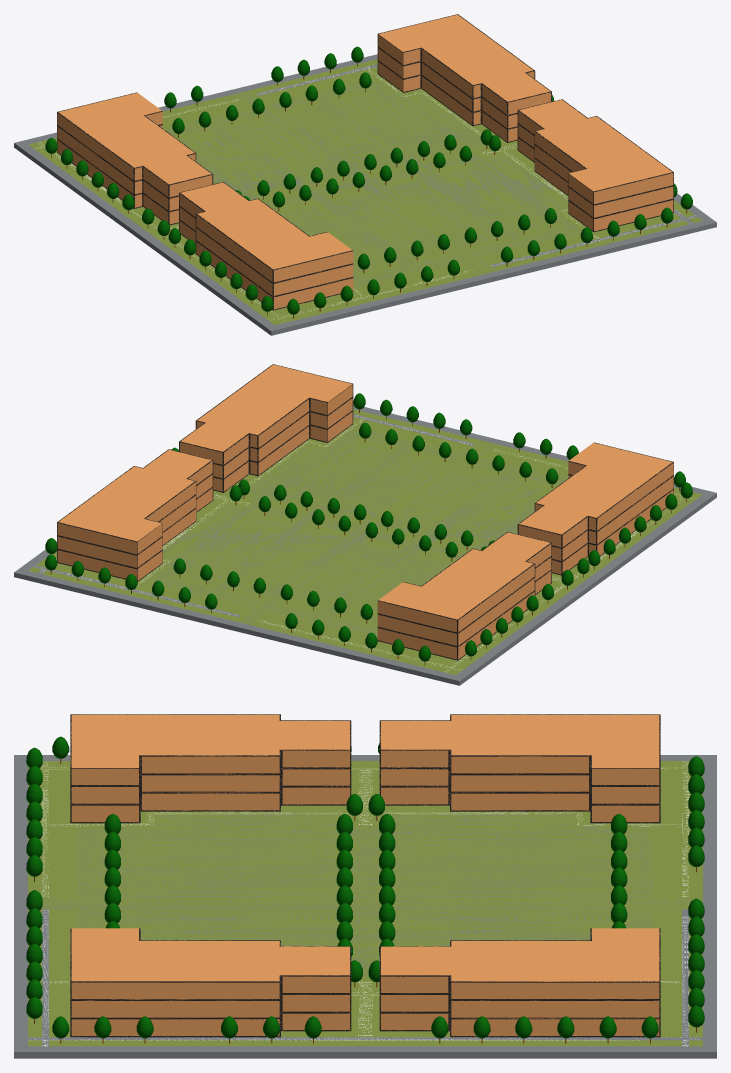
The model's file is 450_apartment_A.dae.
The picture shows the model from 3 angles, top to bottom: view 1: azimuth 30°, elevation 25°; view 2: azimuth 150°, elevation 25°; view 3: azimuth 270°, elevation 25°; orthographic projection. The views are drawn at different scales.
Visible parts, largest first — view 1: group_1 (×14), group_5 (×14), group_4 (×7), group_3 (×6); view 2: group_1 (×15), group_5 (×14), group_4 (×7), group_3 (×6); view 3: group_1 (×14), group_5 (×18), group_4 (×14), group_3 (×14).
Part boxes in pixels (x1=…): group_1 (×14): x1=14, y1=54, x2=716, y2=335; group_5 (×14): x1=57, y1=14, x2=673, y2=283; group_4 (×7): x1=57, y1=47, x2=673, y2=296; group_3 (×6): x1=57, y1=61, x2=673, y2=309; group_1 (×15): x1=14, y1=405, x2=716, y2=685; group_5 (×14): x1=57, y1=364, x2=673, y2=633; group_4 (×7): x1=57, y1=397, x2=673, y2=646; group_3 (×6): x1=57, y1=411, x2=673, y2=659; group_1 (×14): x1=14, y1=755, x2=716, y2=1058; group_5 (×18): x1=70, y1=714, x2=660, y2=1000; group_4 (×14): x1=70, y1=768, x2=660, y2=1018; group_3 (×14): x1=70, y1=787, x2=660, y2=1037.
Bounding box in the file's own units: 97.5 × 97.5 × 9.46.
